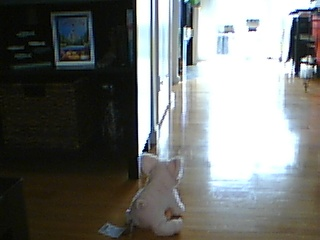piggy: (125, 152, 188, 238)
